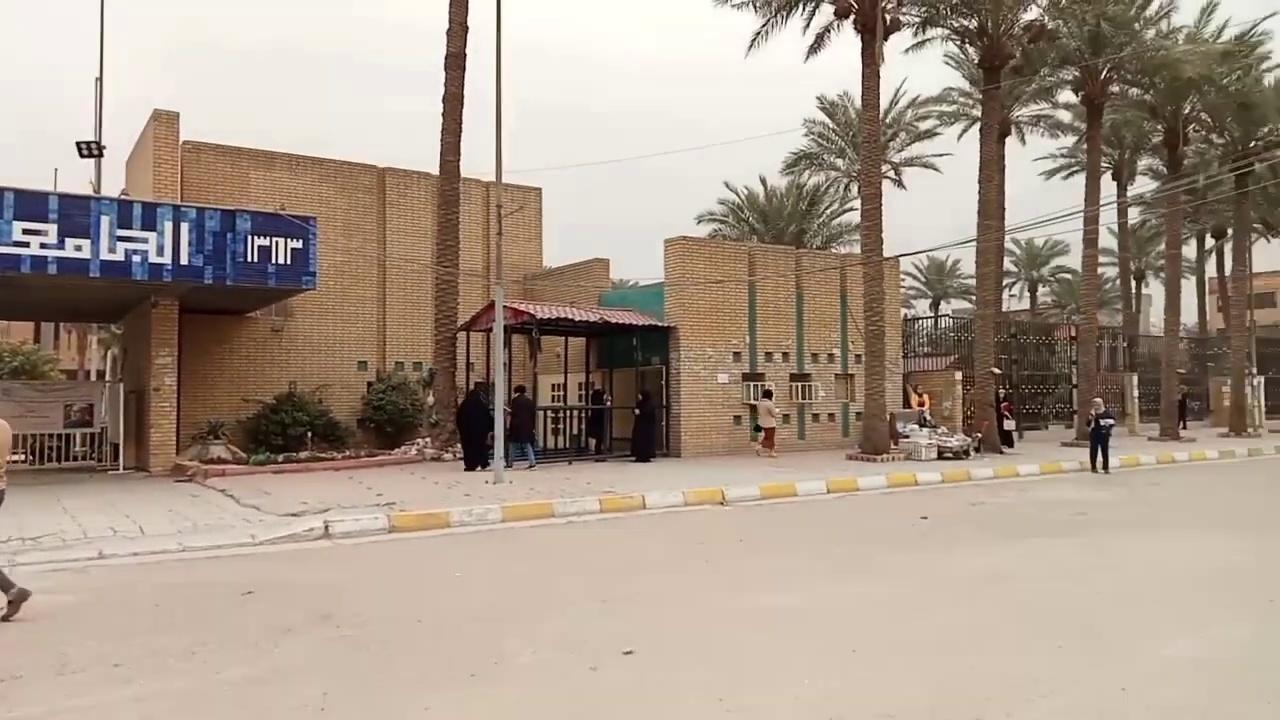person: (0, 417, 32, 621), (455, 377, 493, 471), (504, 383, 537, 470), (1085, 396, 1116, 473), (630, 387, 656, 462), (586, 380, 611, 456), (754, 388, 780, 457), (910, 383, 935, 427), (998, 393, 1016, 448), (1176, 382, 1190, 429)
tree: (707, 0, 1278, 454), (710, 0, 965, 455), (1006, 0, 1184, 446), (898, 0, 1070, 453), (1106, 1, 1275, 441), (1192, 70, 1279, 436), (693, 172, 845, 375), (779, 77, 952, 251), (425, 0, 470, 450), (1000, 233, 1079, 425), (693, 172, 845, 249), (235, 379, 347, 455), (900, 251, 976, 350), (1000, 234, 1077, 320), (1098, 216, 1164, 316), (359, 366, 433, 449), (0, 334, 66, 383), (181, 417, 247, 463)
